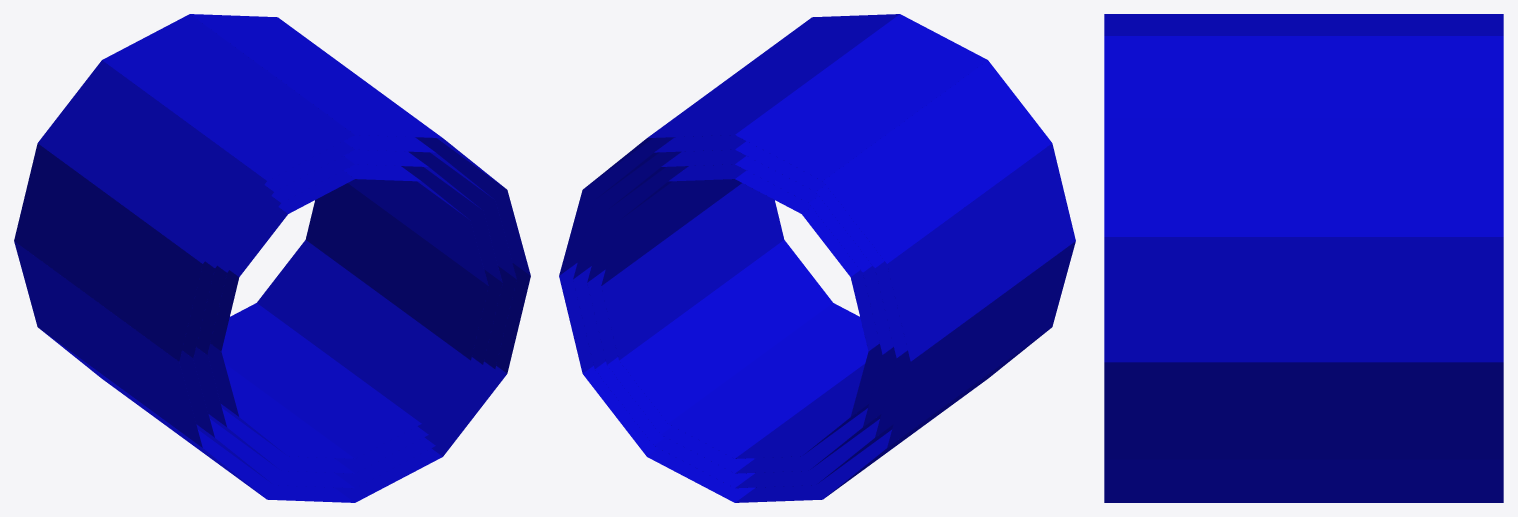
File: YokeBarrel.gltf
3 views of the same model, side by side, from view 1: azimuth 30°, elevation 25°; view 2: azimuth 150°, elevation 25°; view 3: azimuth 270°, elevation 25° (orthographic). The views are drawn at different scales.
Parts seen in each view (by area): view 1: YokeBarrel; view 2: YokeBarrel; view 3: YokeBarrel.
Part boxes in pixels (x1=…): YokeBarrel: x1=14, y1=14, x2=530, y2=502; YokeBarrel: x1=559, y1=14, x2=1075, y2=502; YokeBarrel: x1=1104, y1=14, x2=1503, y2=502.
Size of the model in its own units: 11303 by 11303 by 9201.
